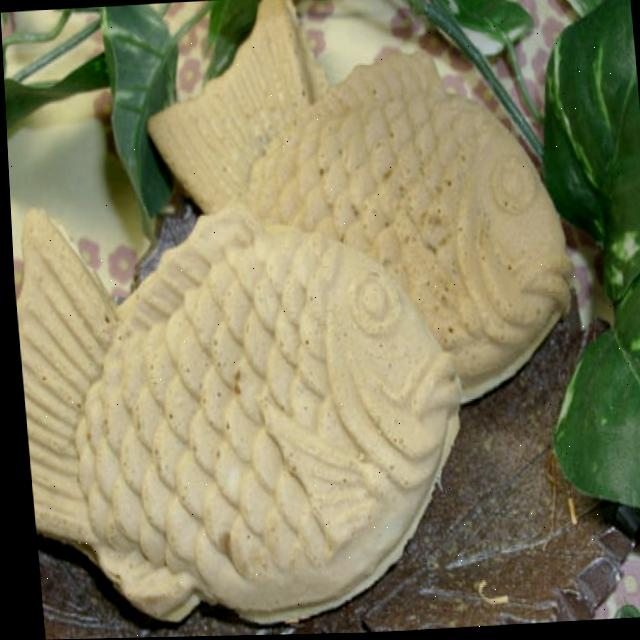熟制海鲜: (0, 0, 593, 640)
